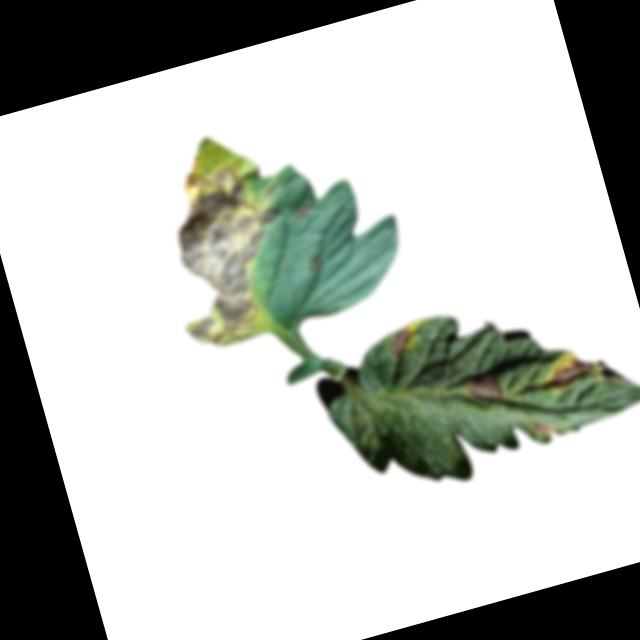Early_blight: (147, 156, 314, 354), (540, 346, 603, 395), (461, 372, 503, 408), (385, 325, 423, 359), (529, 415, 555, 444), (291, 201, 314, 222), (306, 254, 327, 277)
